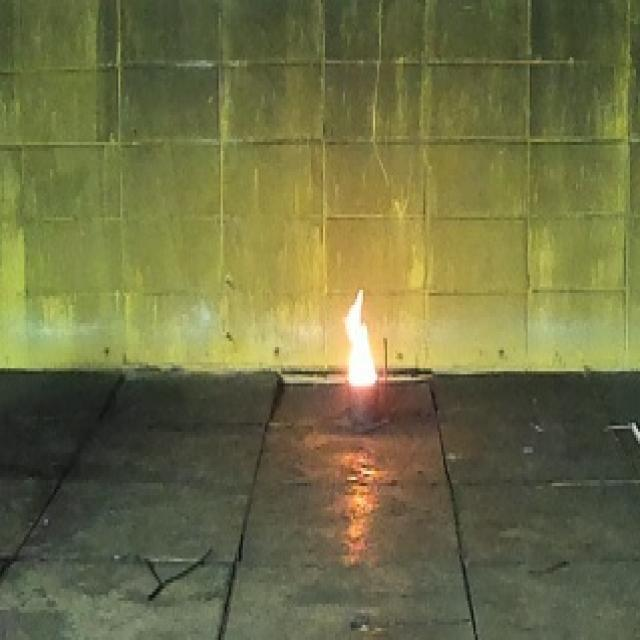Fire: (345, 290, 375, 388)
